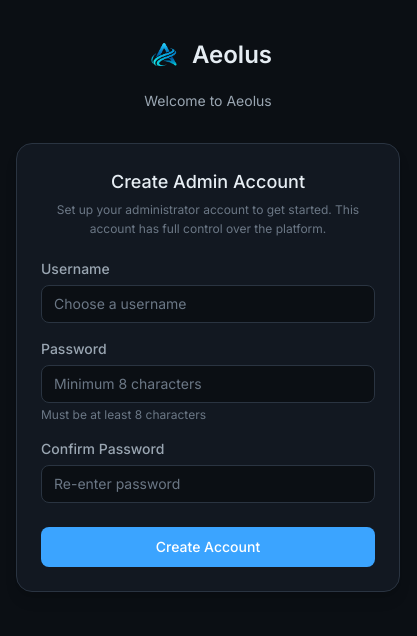
Test: SetupPage › requires a username
Click the button "Create Account". click: [208, 546]
box: [41, 526, 375, 566]
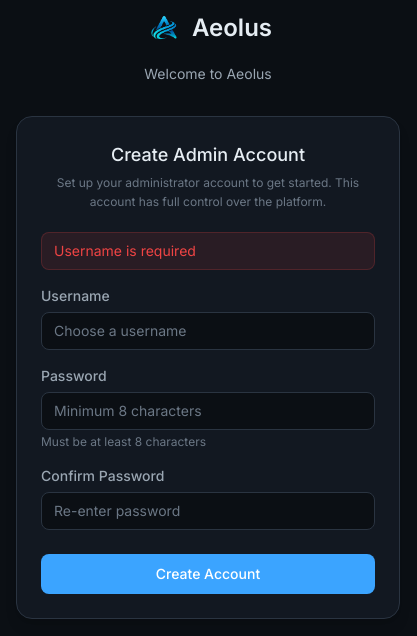
Expected: the text "Username is required" is shown, [41, 232, 375, 270]
